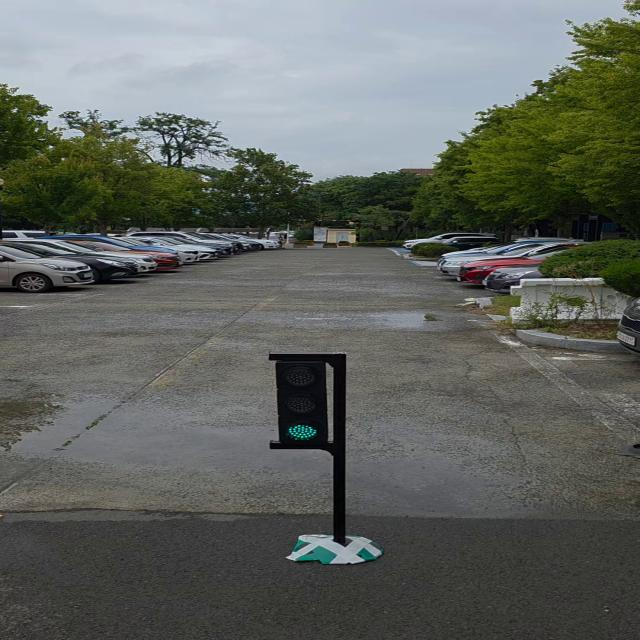green: (278, 353, 340, 447)
